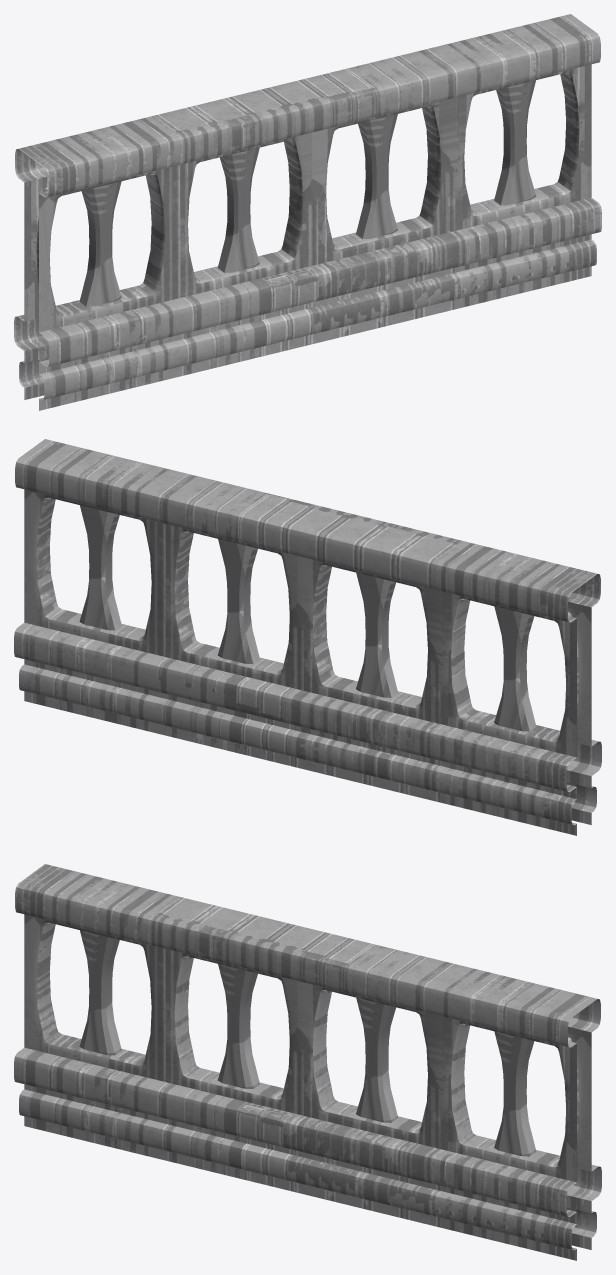
The model's file is SM_Trim2.fbx.
The picture shows the model from 3 angles, top to bottom: view 1: azimuth 30°, elevation 25°; view 2: azimuth 150°, elevation 25°; view 3: azimuth 330°, elevation 25°; orthographic projection.
Visible parts, largest first — view 1: SM_Trim2_LOD0; view 2: SM_Trim2_LOD0; view 3: SM_Trim2_LOD0.
Boxes of the visible parts, box(x1,y1,x2,y2) form: SM_Trim2_LOD0: box(14, 14, 601, 410); SM_Trim2_LOD0: box(14, 439, 601, 835); SM_Trim2_LOD0: box(14, 864, 601, 1260).
Bounding box in the file's own units: 300 × 33.17 × 128.
